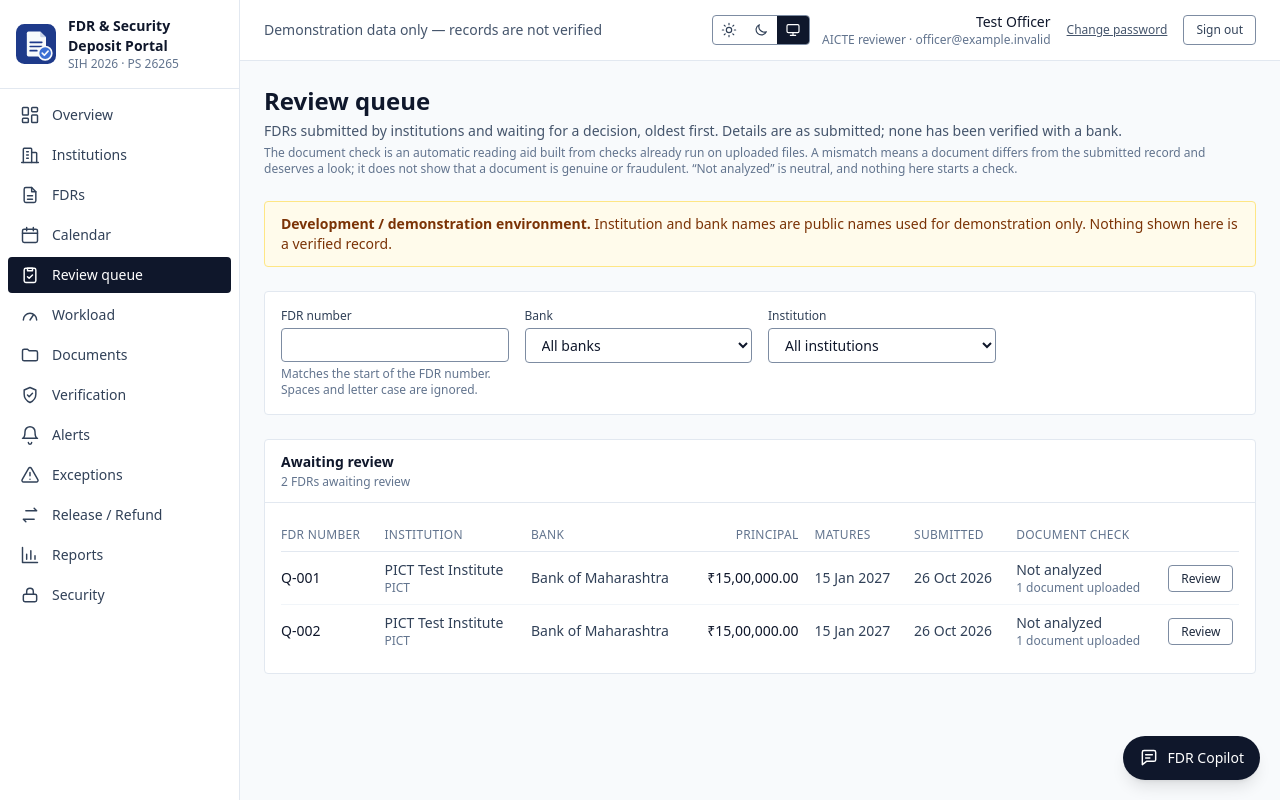
Scenario: search, filters and paging › explains an empty result for filters differently from an empty queue, and clears
Check: the column heading "Q-001" is shown, box [281, 552, 384, 604]
In the search field labelled "FDR number": (395, 345) [281, 328, 508, 362], type "ZZZ"
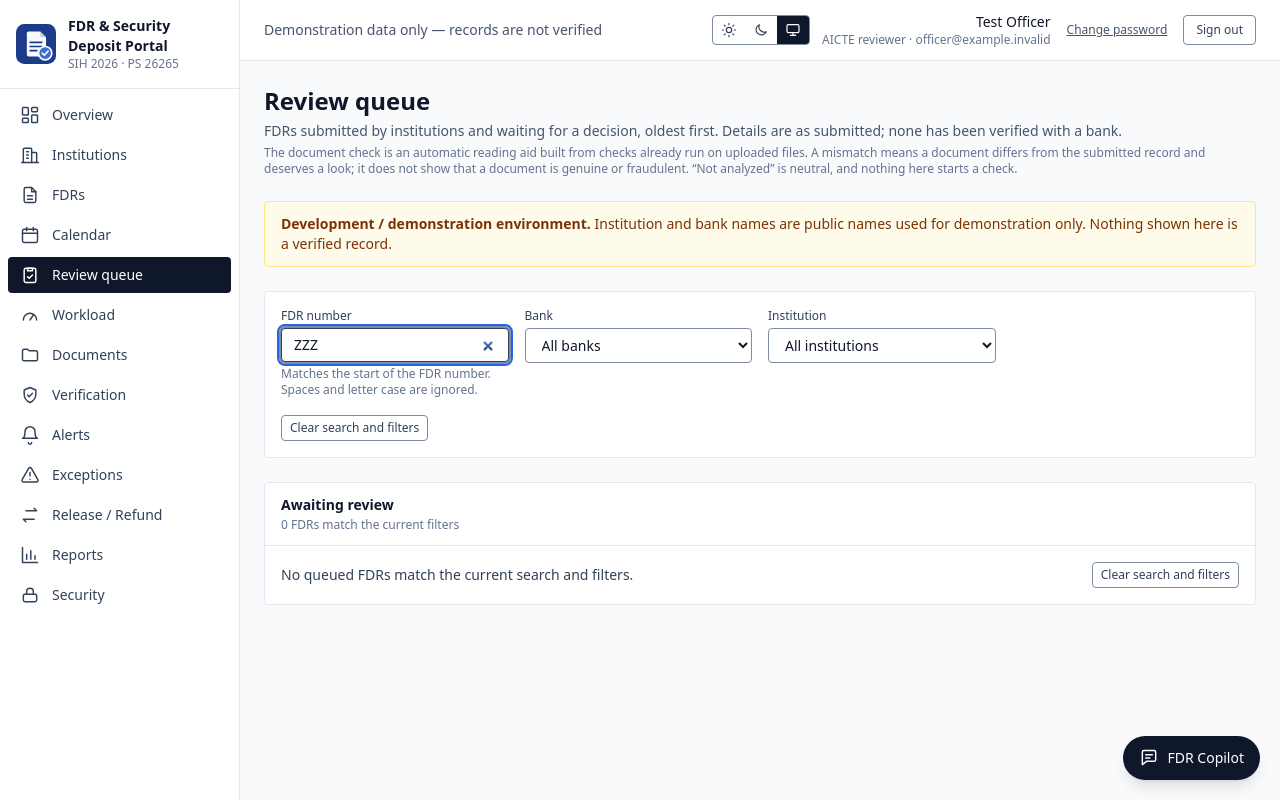
Check: the text "No queued FDRs match the current search and filters." is shown, box [281, 565, 633, 585]
Click the 1st button "Clear search and filters": (355, 428) [281, 415, 428, 441]
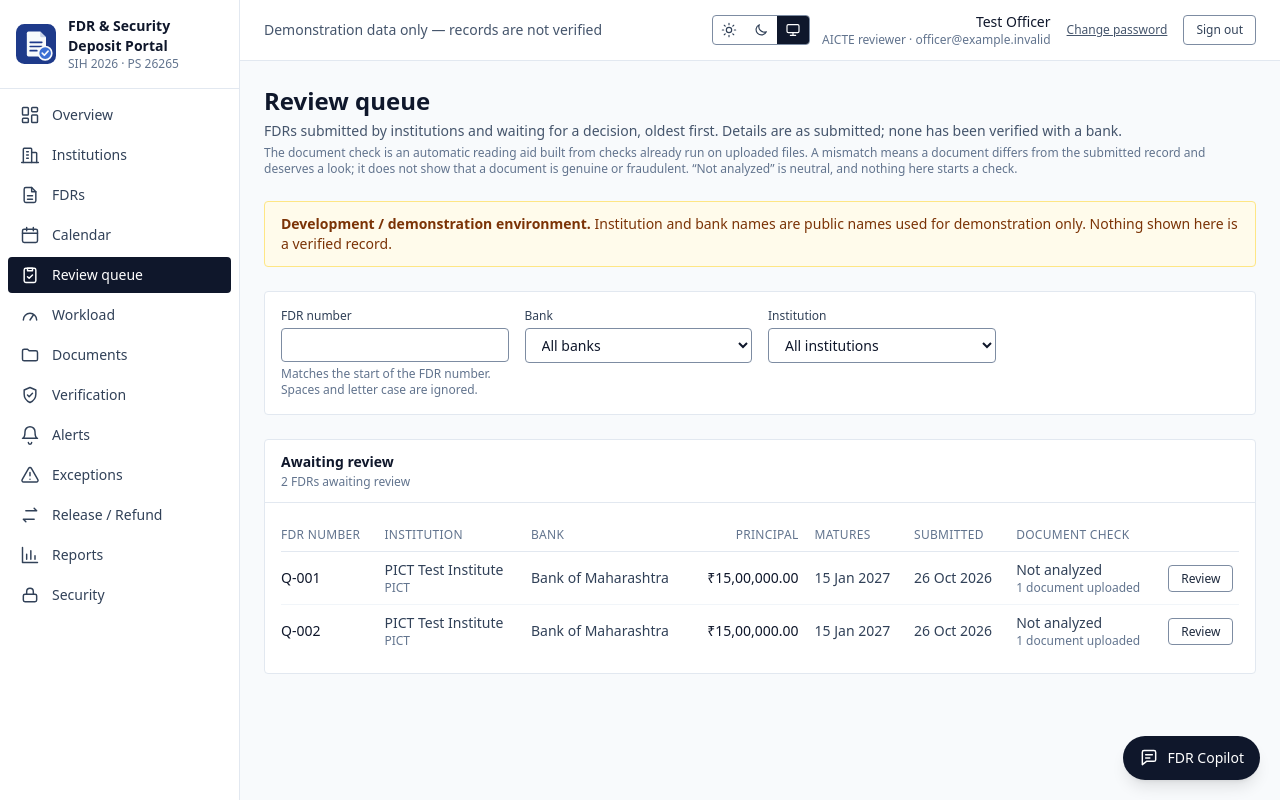
Check: the column heading "Q-001" is shown, box [281, 552, 384, 604]
